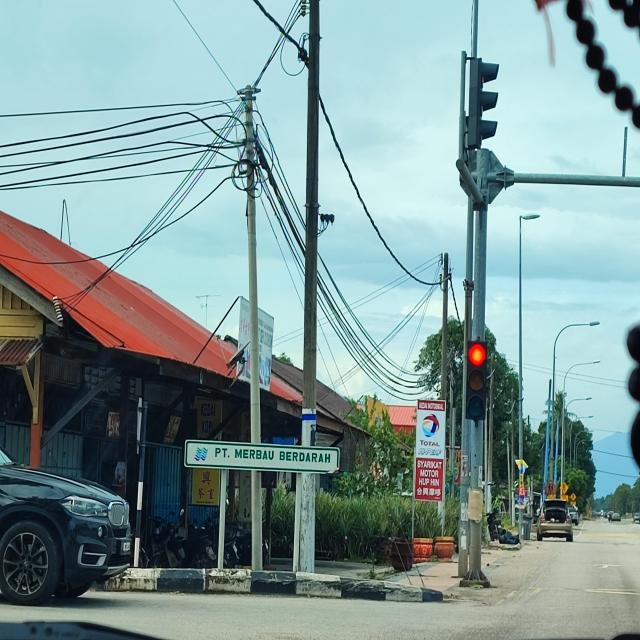car: (0, 418, 132, 607), (536, 499, 573, 542), (608, 512, 622, 522), (633, 512, 640, 524)
traffic light: (466, 57, 500, 149), (625, 319, 640, 482), (465, 341, 487, 421), (626, 320, 640, 406)
